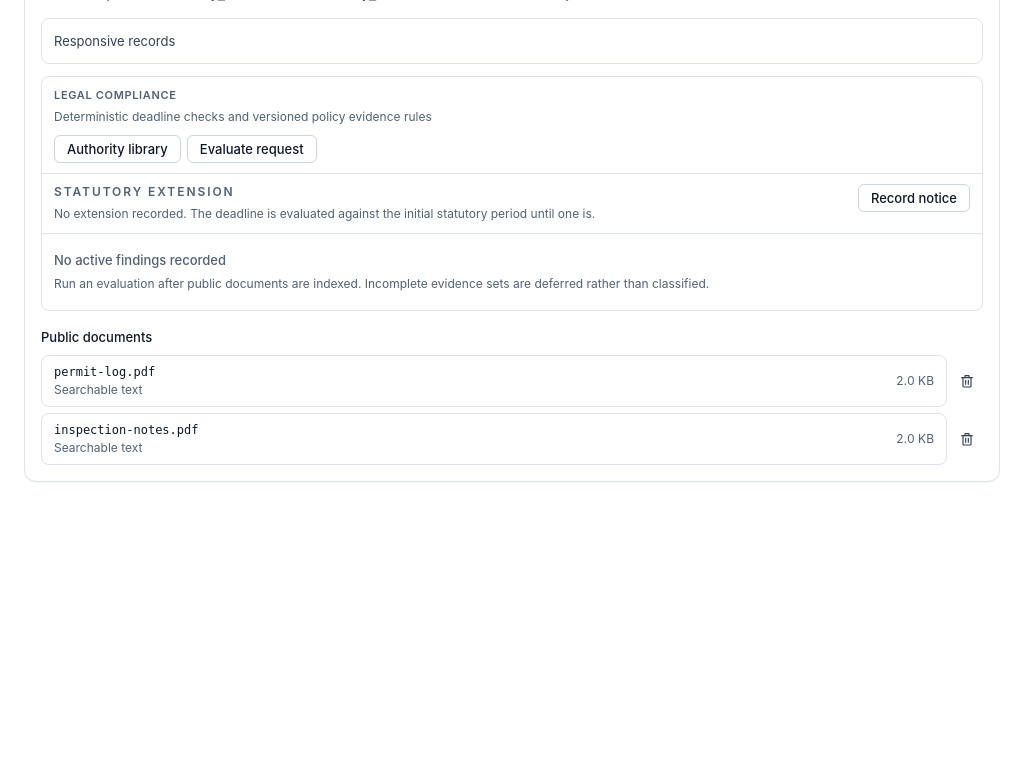
document purge › confirms before deleting, then removes only the document it deleted
This screenshot has width=1024, height=764.
(page scrolled)
Click the button named "Delete document permit-log.pdf" at (967, 380), box left=951, top=354, right=983, bottom=406
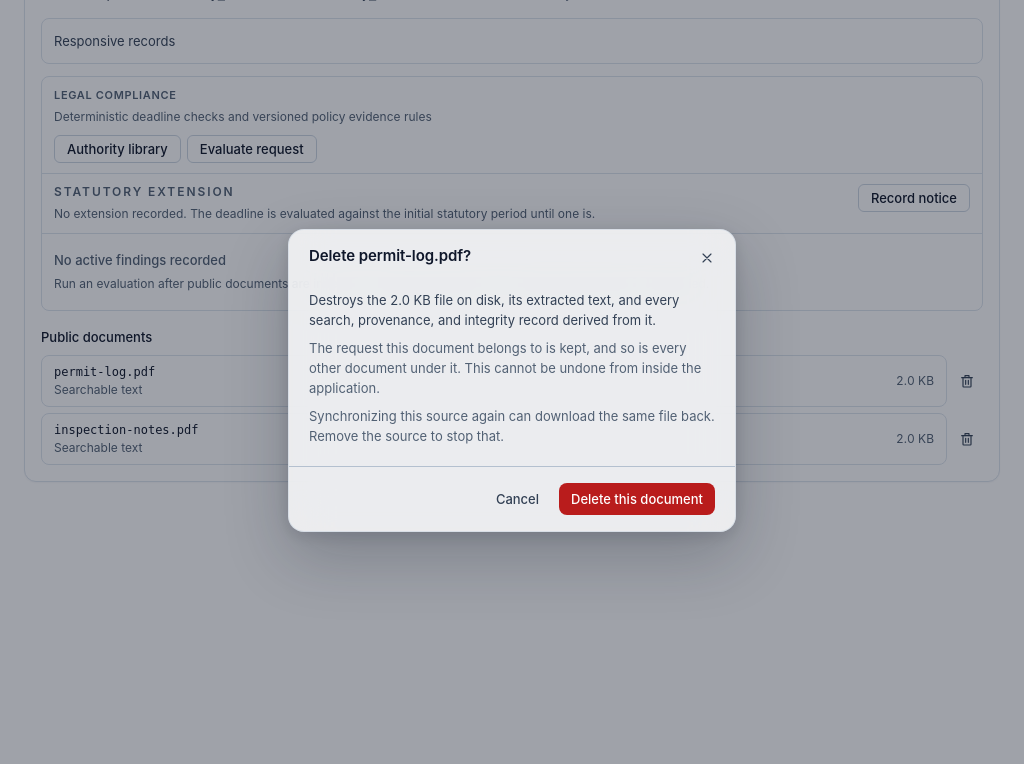
Now the heading "Delete permit-log.pdf?" is shown, box left=309, top=246, right=471, bottom=264
Click the button "Delete this document" at (637, 498), box left=559, top=482, right=715, bottom=514
(page scrolled)
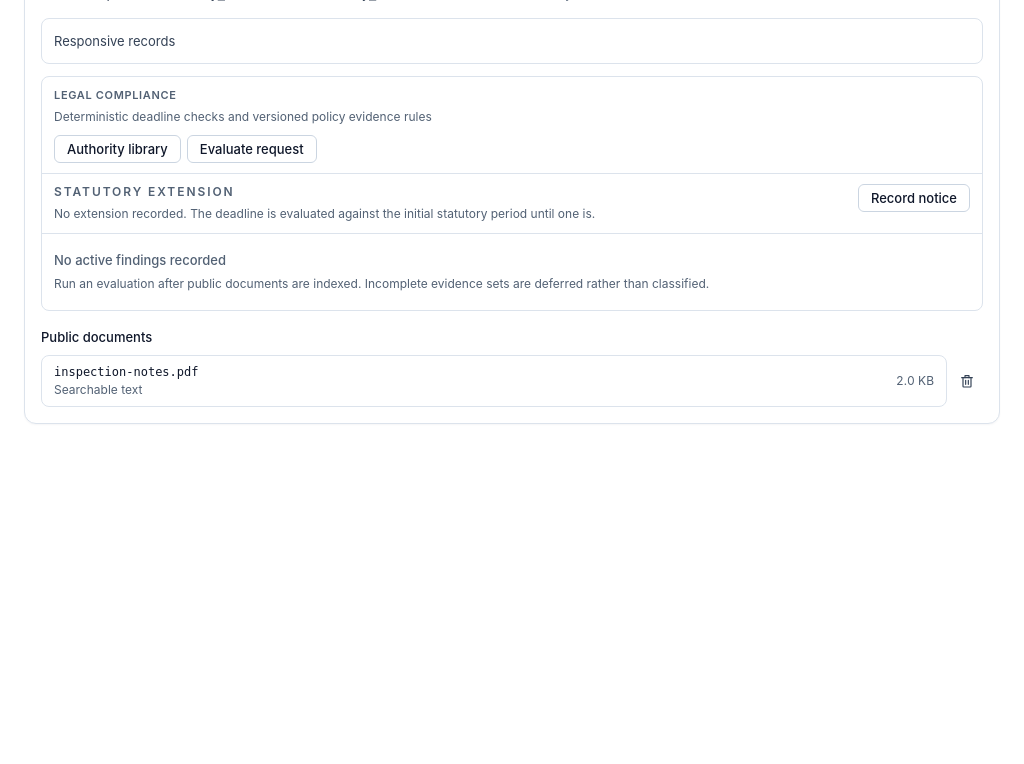
Expected: the text "inspection-notes.pdf" is shown, left=54, top=364, right=198, bottom=380
Now the button "permit-log.pdf" is gone
